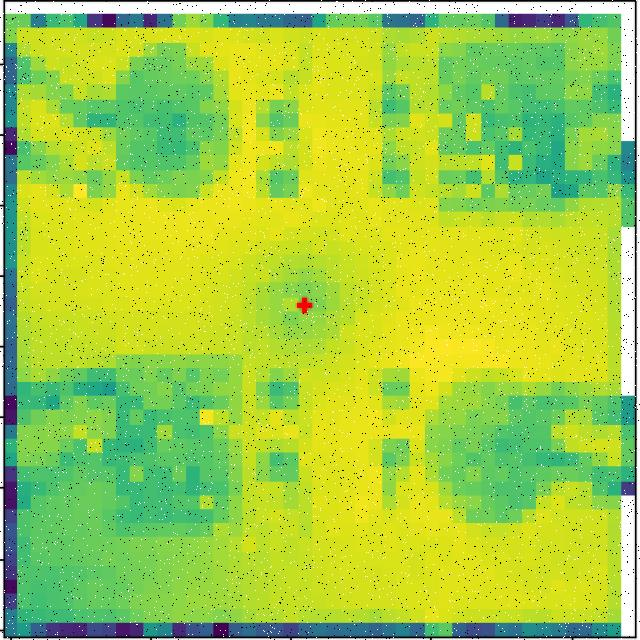Concrete: (433, 39, 579, 229)
Glass: (106, 38, 240, 210)
Metal: (421, 363, 571, 536)
Wood: (83, 353, 251, 546)
